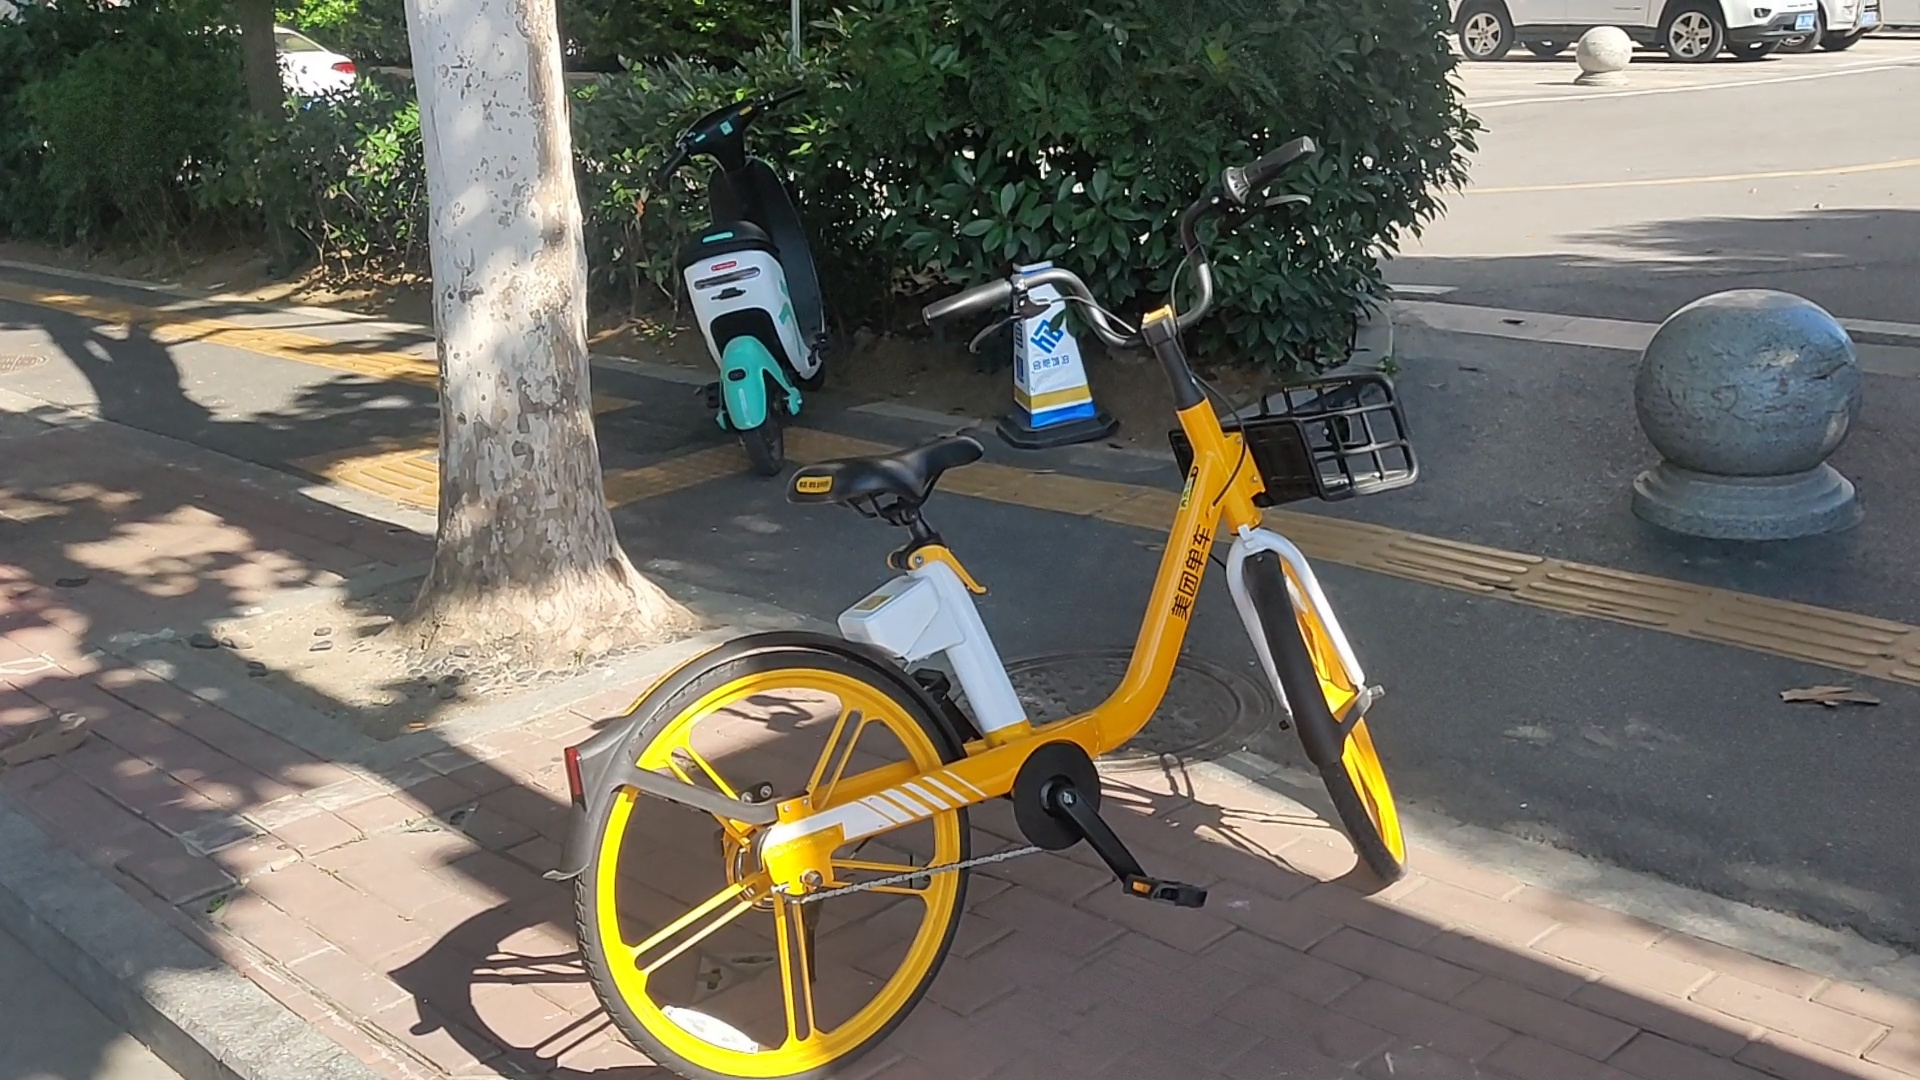non-vehicle: (562, 196, 1395, 1080), (647, 78, 829, 479)
